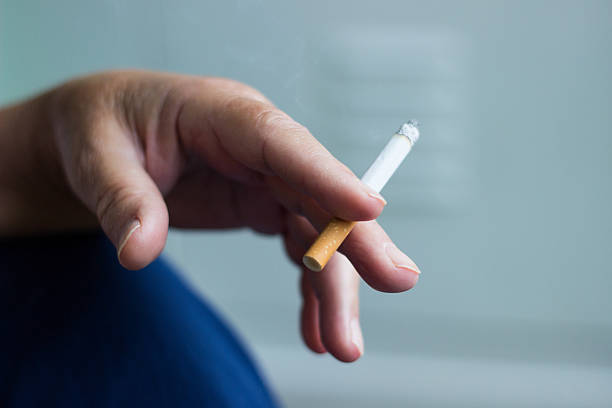cigarette: (301, 122, 419, 271)
